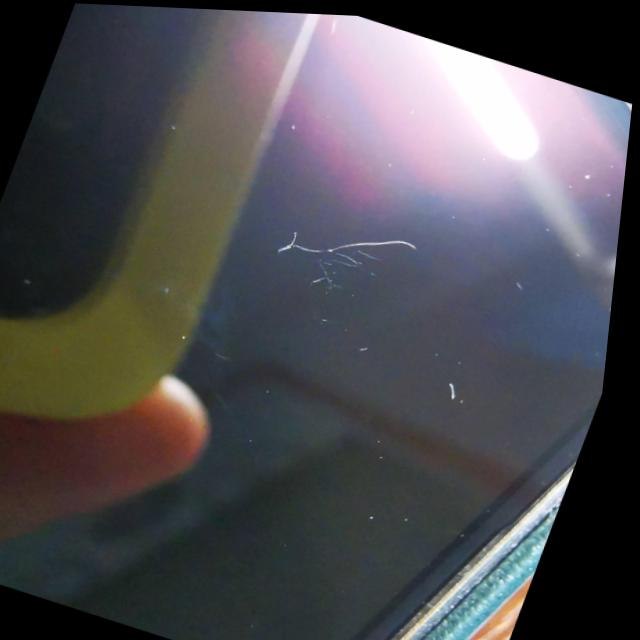scratch: (272, 221, 426, 258), (304, 259, 387, 297), (443, 365, 481, 414)
